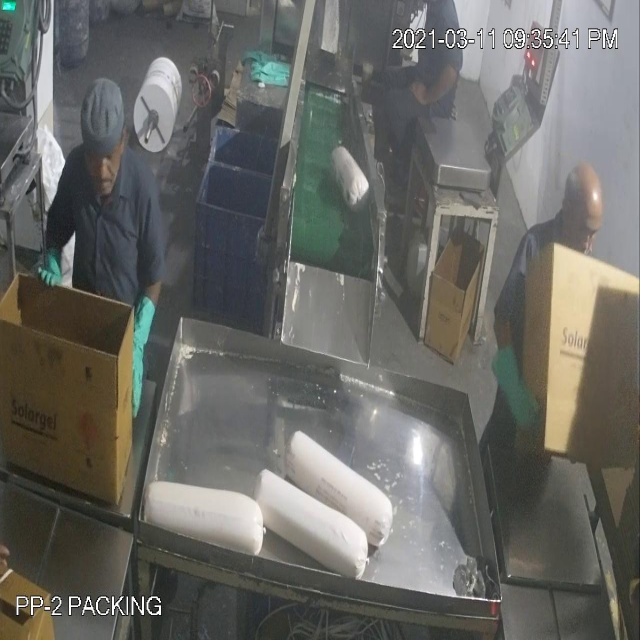Guantes: (485, 334, 545, 435)
Sin_guantes: (408, 60, 462, 124)
